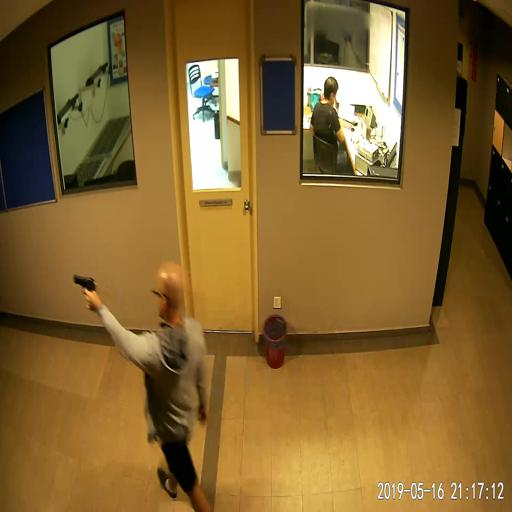pistol: (71, 272, 101, 310)
